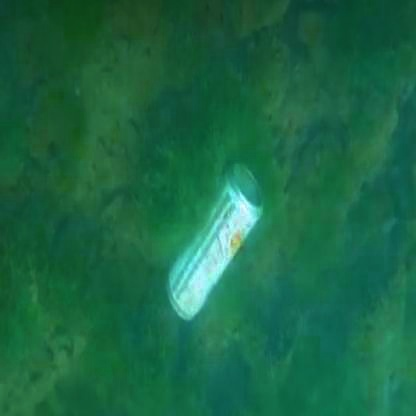can: (164, 152, 264, 342)
